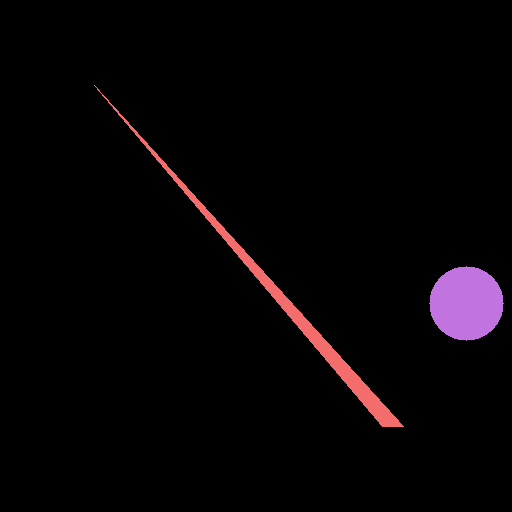circle: (429, 266, 503, 340)
